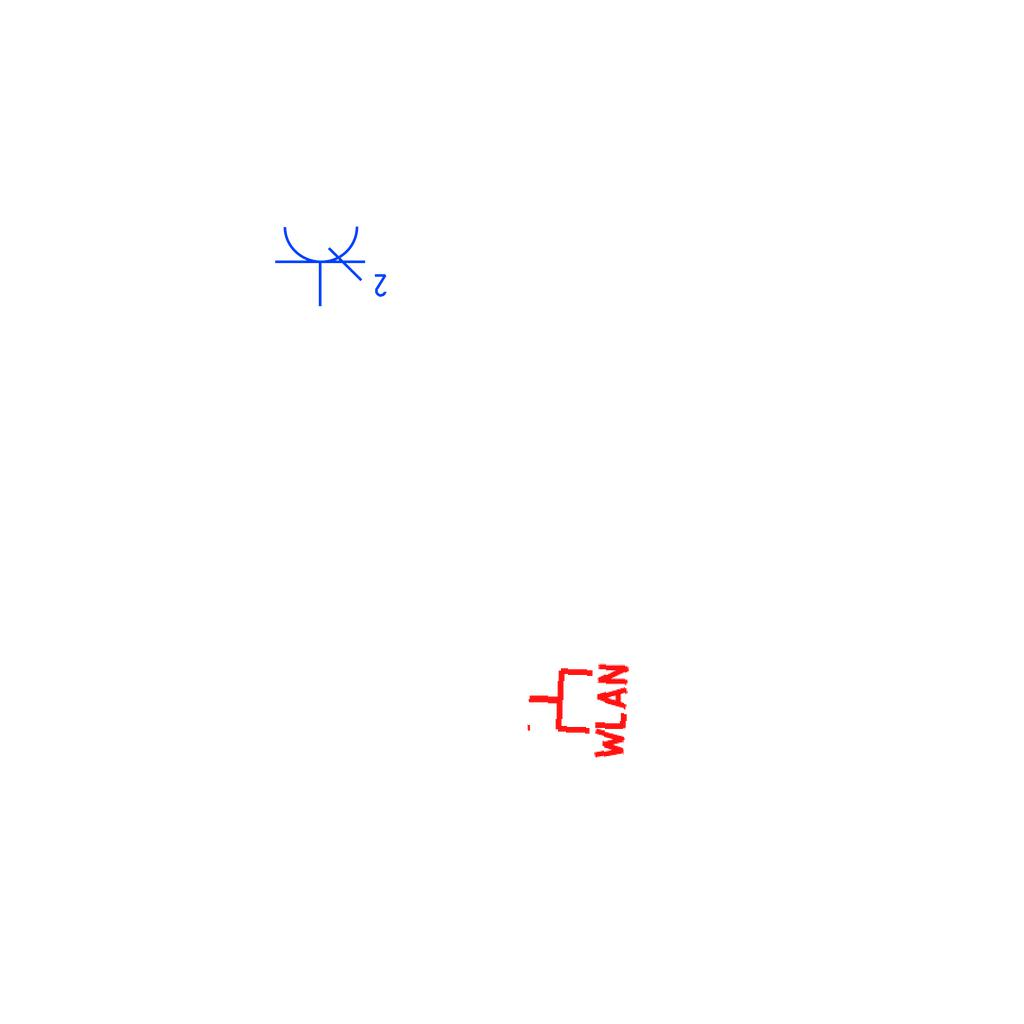Schukosteckdose_mehrfach: (273, 220, 394, 308)
WLAN: (521, 655, 632, 765)
